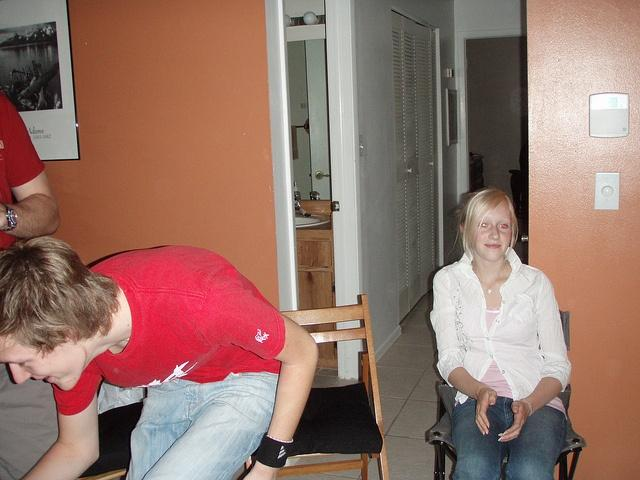Kursi: (271, 293, 389, 479)
